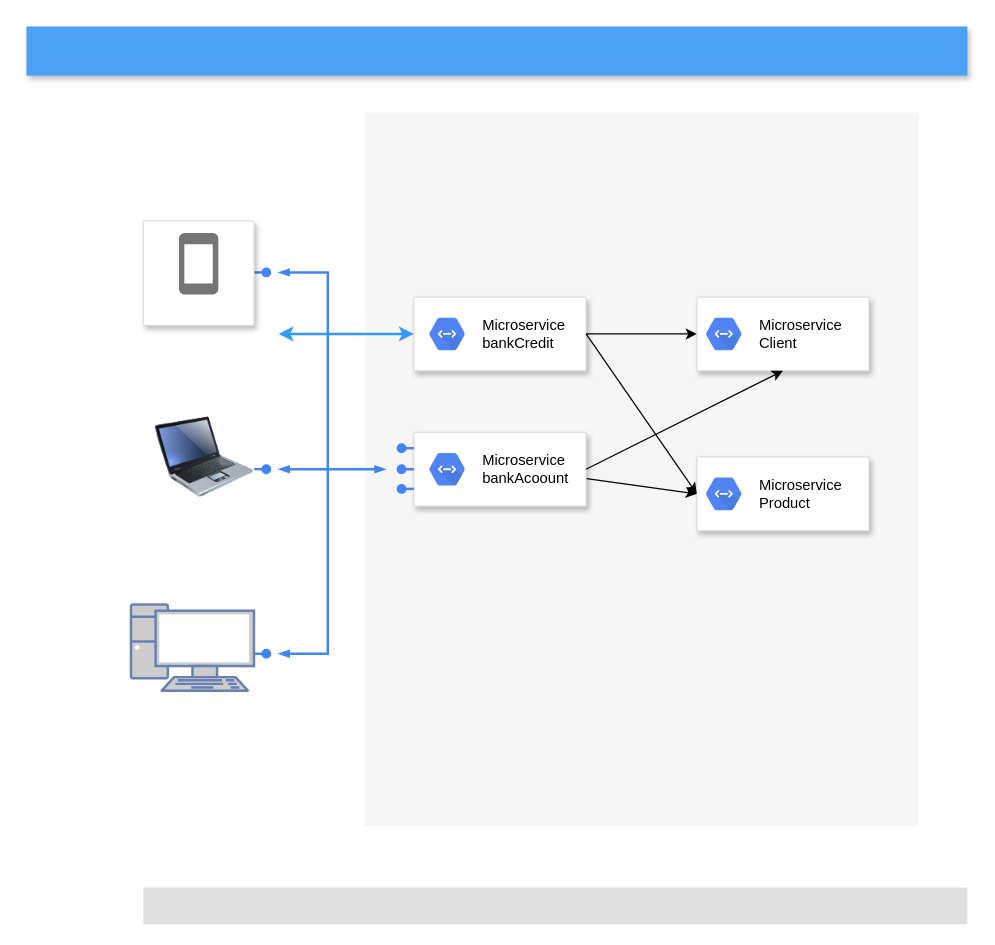
Image size: 995x945. Some labels were removed from this diagram. Here are the shapes that lost their labels. From the top down, the centre of each, then its label:
At [497,52]: "Architecture: General > App Engine and Cloud Endpoints".
At [199,274]: "iOS / Android".
